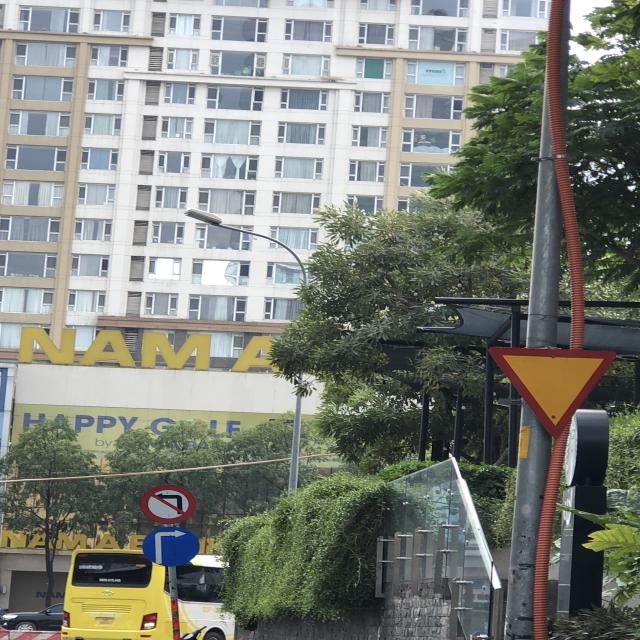Bien bao cam re trai: (133, 481, 204, 523)
Bien bao giao nhau voi duong uu tien: (479, 337, 620, 442)
Bien bao huong di phai theo: (141, 524, 203, 570)
